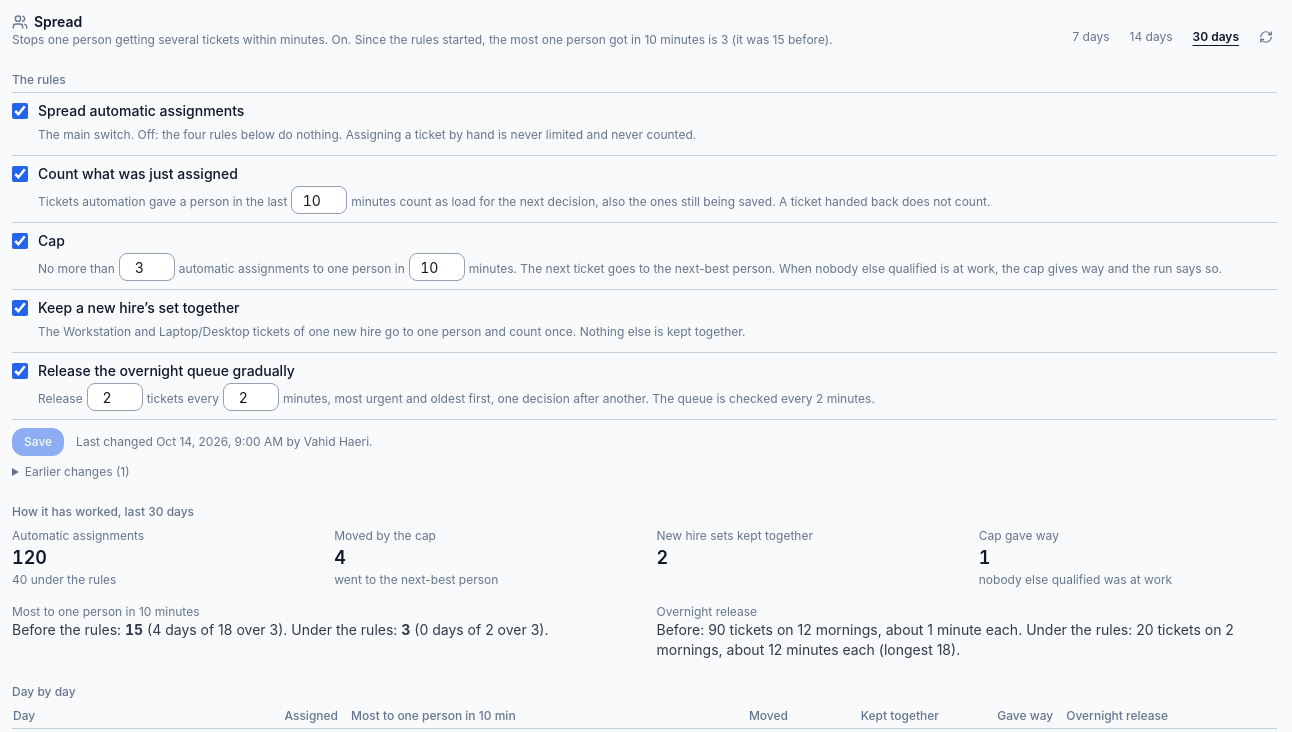
Scenario: SpreadTab › a refused save shows the reason and keeps what was typed
The width and height of the screenshot is (1292, 732).
Replace the text in the number field named "Cap in tickets" with "99": (147, 267) [119,253,175,281]
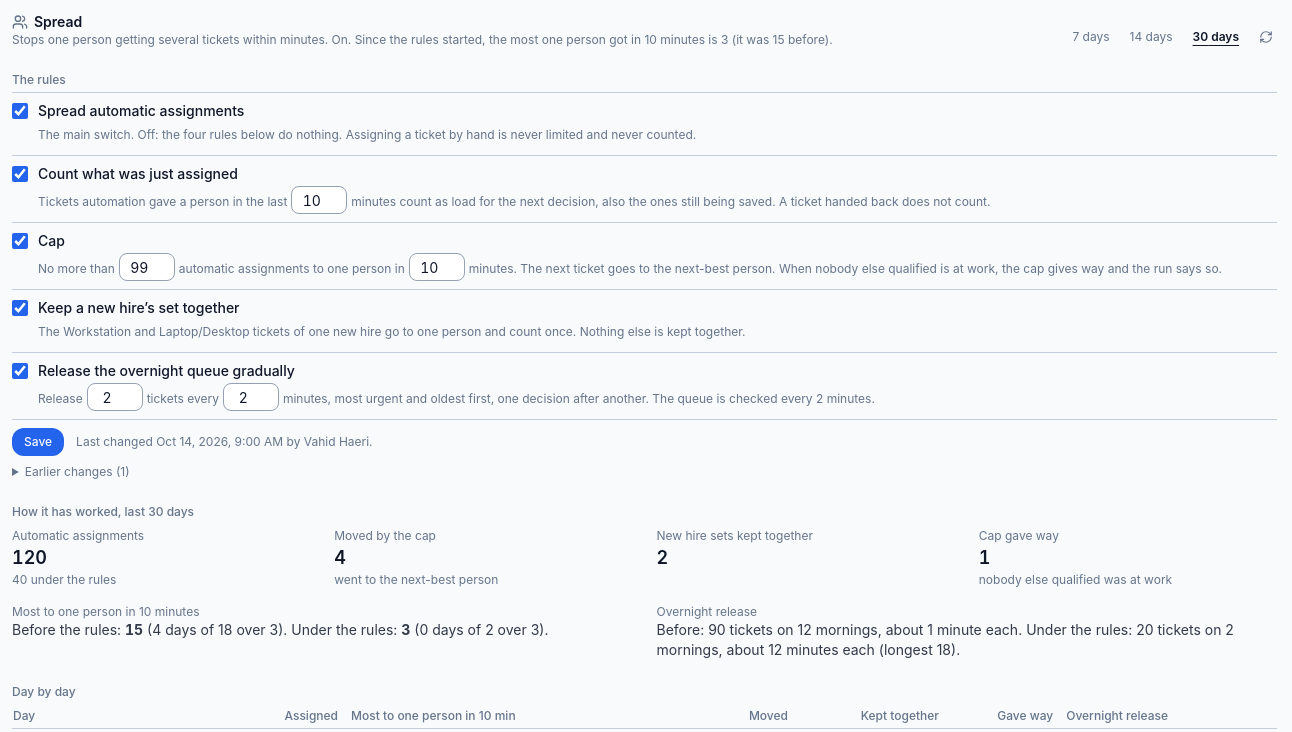
Click the button "Save": (38, 442) [12,428,64,456]
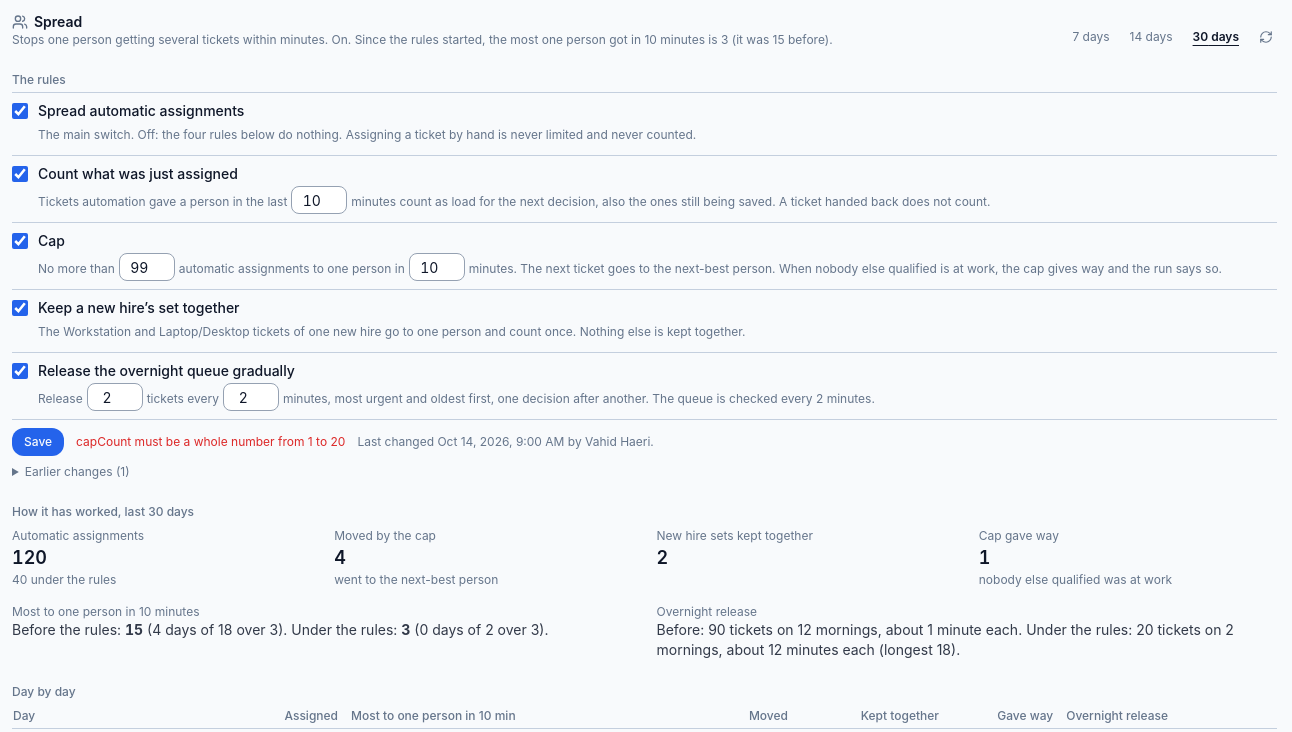
Now the message reads "capCount must be a whole number from 1 to 20", box [76,434,345,449]
